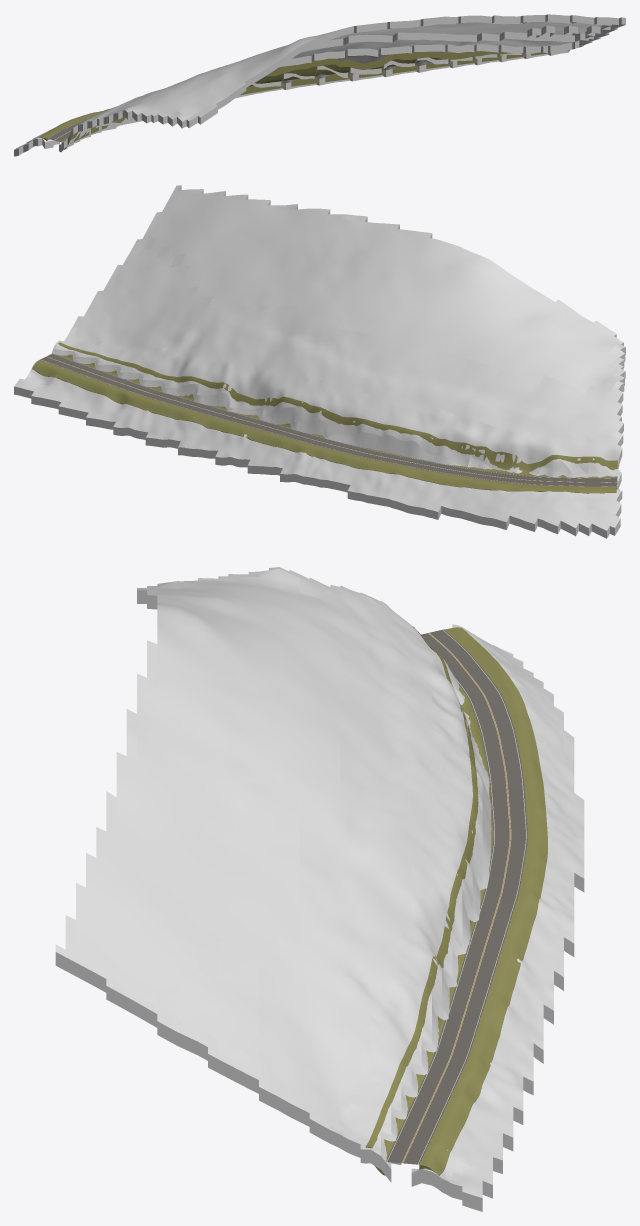
The model's file is conz_65.glb.
3 renders of one model, top to bottom at view 1: azimuth 30°, elevation 25°; view 2: azimuth 150°, elevation 25°; view 3: azimuth 270°, elevation 25°, orthographic. The views are drawn at different scales.
Parts seen in each view (by area): view 1: terrain65, verge65R, verge65L, road65; view 2: terrain65, verge65L, road65, verge65R, paint_white65, paint_yellow65; view 3: terrain65, road65, verge65L, verge65R, paint_white65, paint_yellow65.
Boxes of the visible parts, box(x1,y1,x2,y2) form: terrain65: box(14, 14, 625, 156); verge65R: box(61, 50, 569, 149); verge65L: box(38, 109, 109, 140); road65: box(47, 114, 97, 142); terrain65: box(14, 185, 625, 538); verge65L: box(32, 360, 616, 493); road65: box(40, 354, 617, 486); verge65R: box(56, 342, 617, 478); paint_white65: box(40, 353, 616, 486); paint_yellow65: box(46, 356, 616, 482); terrain65: box(55, 567, 584, 1211); road65: box(386, 629, 527, 1164); verge65L: box(419, 627, 547, 1175); verge65R: box(366, 626, 493, 1175); paint_white65: box(387, 629, 526, 1164); paint_yellow65: box(402, 633, 511, 1163).
Size of the model in its own units: 242 by 66.16 by 104.
